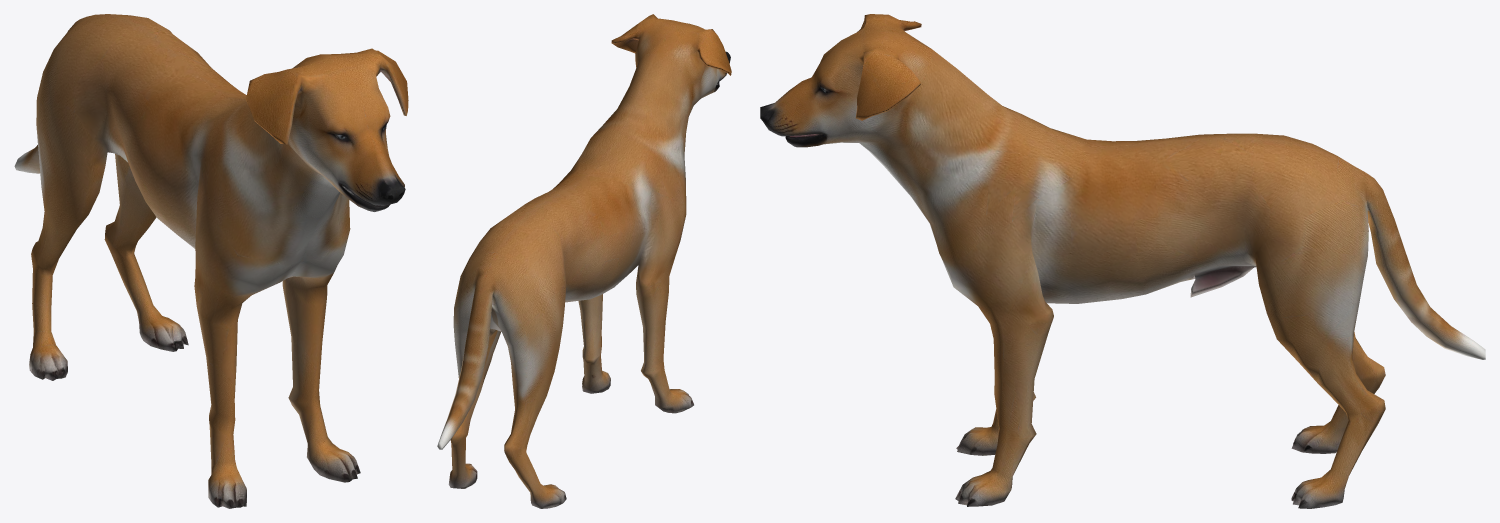
Rendered from meshy-roadside-dog.glb.
3 renders of one model, left to right at view 1: azimuth 30°, elevation 25°; view 2: azimuth 150°, elevation 25°; view 3: azimuth 270°, elevation 25°, orthographic. The views are drawn at different scales.
Bounding box in the file's own units: 0.2324 × 0.6727 × 1.
1 material, 1 textured.
